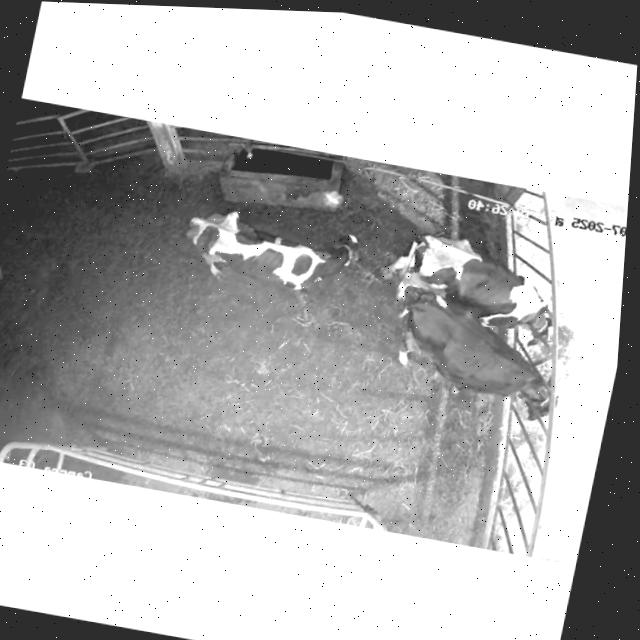stand: (164, 201, 376, 315)
